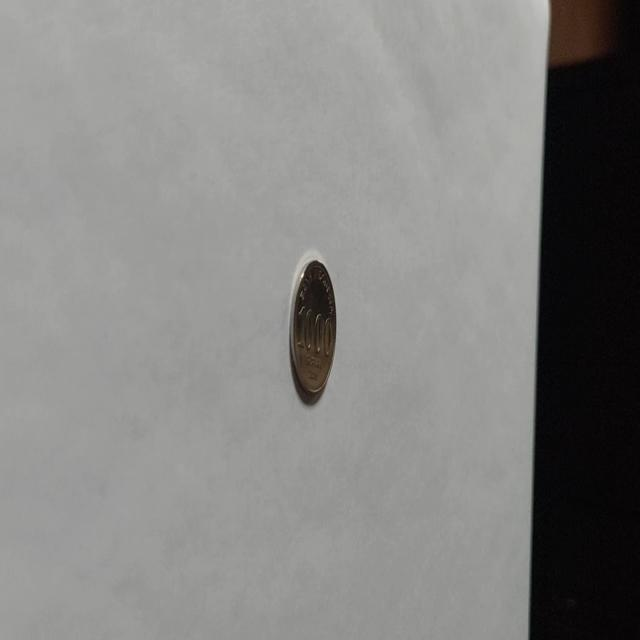seribu rupiah koin: (288, 252, 337, 400)
